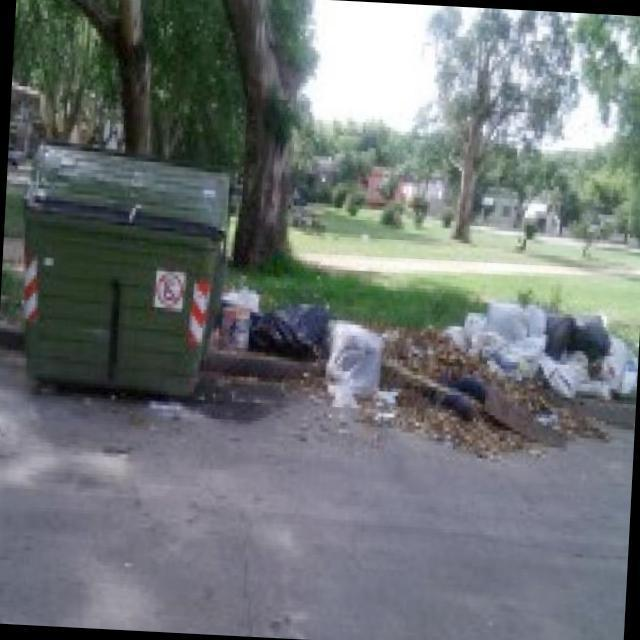garbage: (215, 275, 382, 406), (442, 300, 640, 397)
